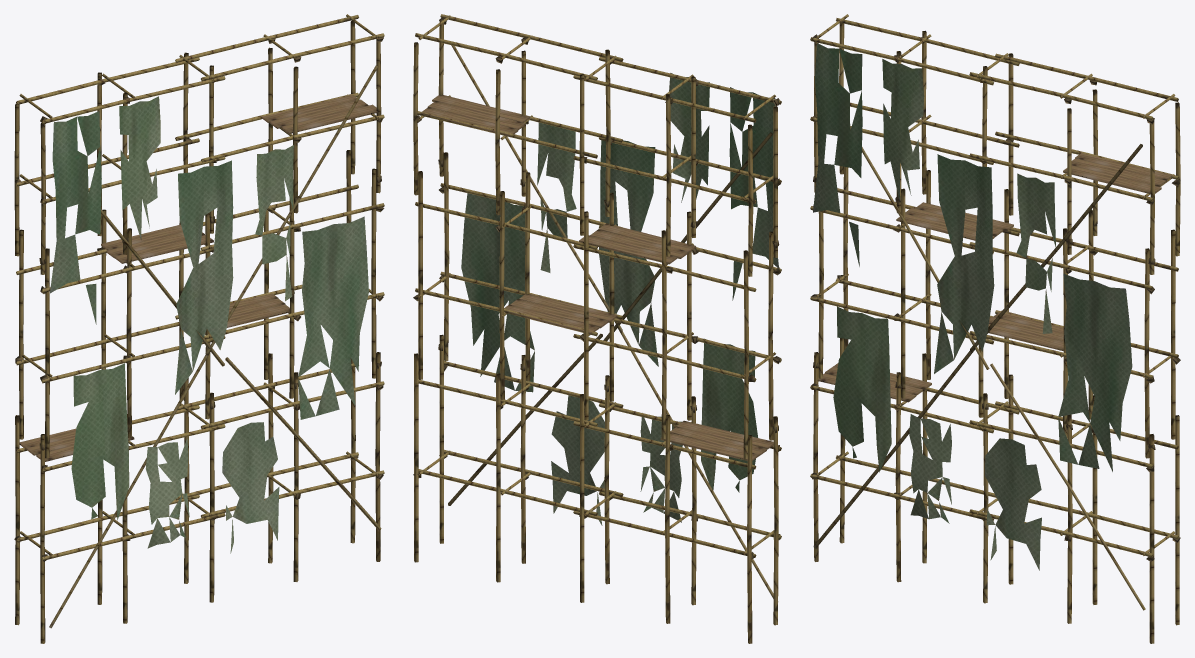
File: scaffold_bamboo.glb
3 views of the same model, side by side, from view 1: azimuth 30°, elevation 25°; view 2: azimuth 150°, elevation 25°; view 3: azimuth 330°, elevation 25° (orthographic).
Visible parts, largest first — view 1: body; view 2: body; view 3: body.
Boxes of the visible parts, bbox=[...] form: body: bbox=[14, 14, 384, 643]; body: bbox=[413, 14, 781, 643]; body: bbox=[810, 14, 1180, 643].
Bounding box in the file's own units: 6.05 × 9 × 1.07.
1 material, 1 textured.
